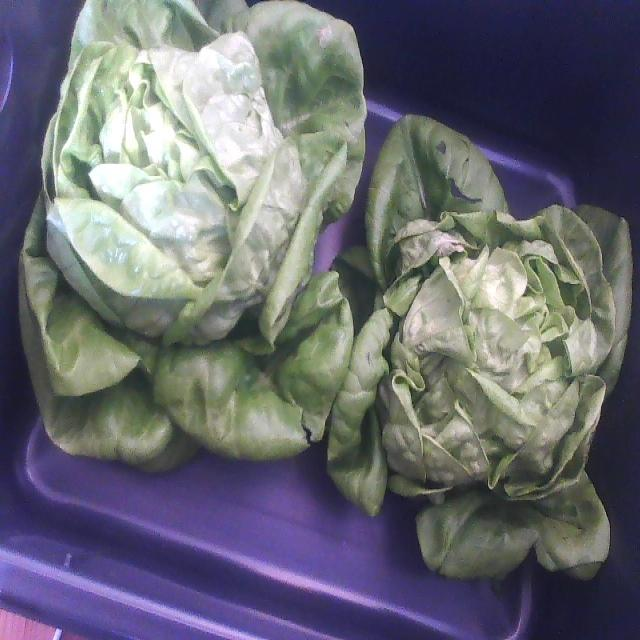lettuce: (20, 0, 365, 469), (328, 115, 632, 577)
